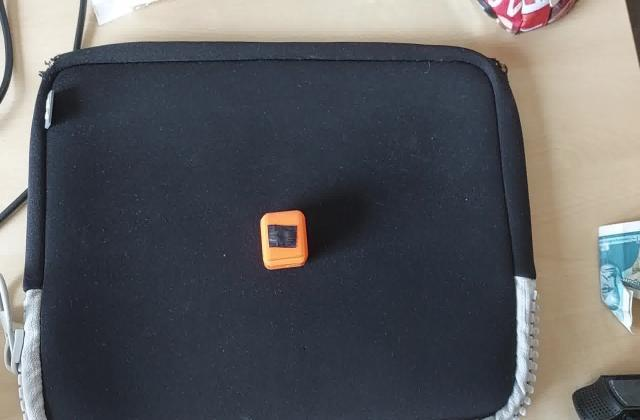black: (264, 222, 302, 252)
sticker: (258, 207, 312, 272)
